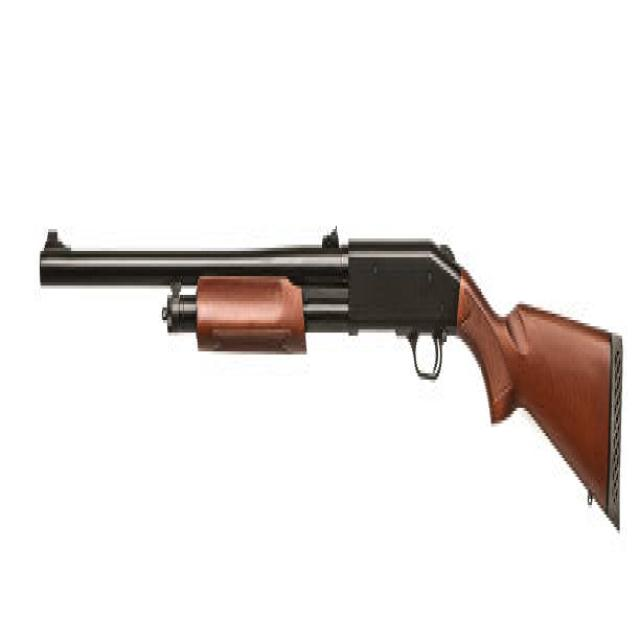rifle: (34, 197, 626, 552)
